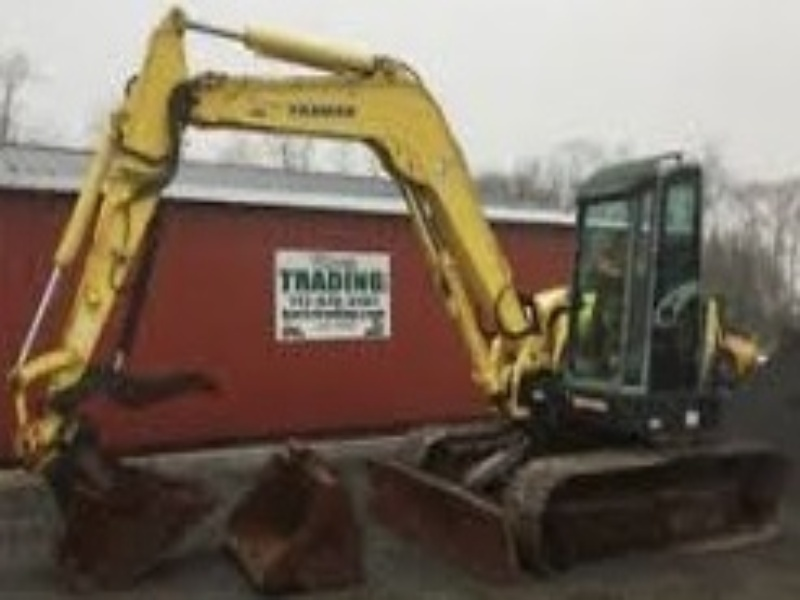wajueji: (348, 100, 798, 581)
